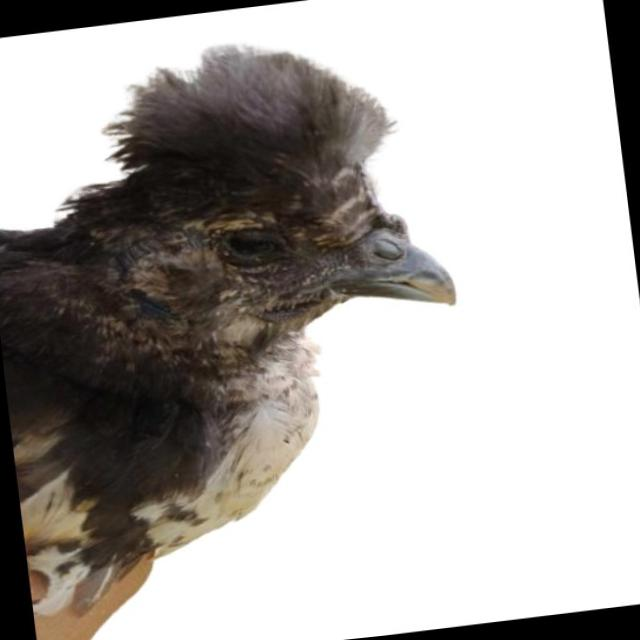Coryza: (158, 182, 338, 318)
